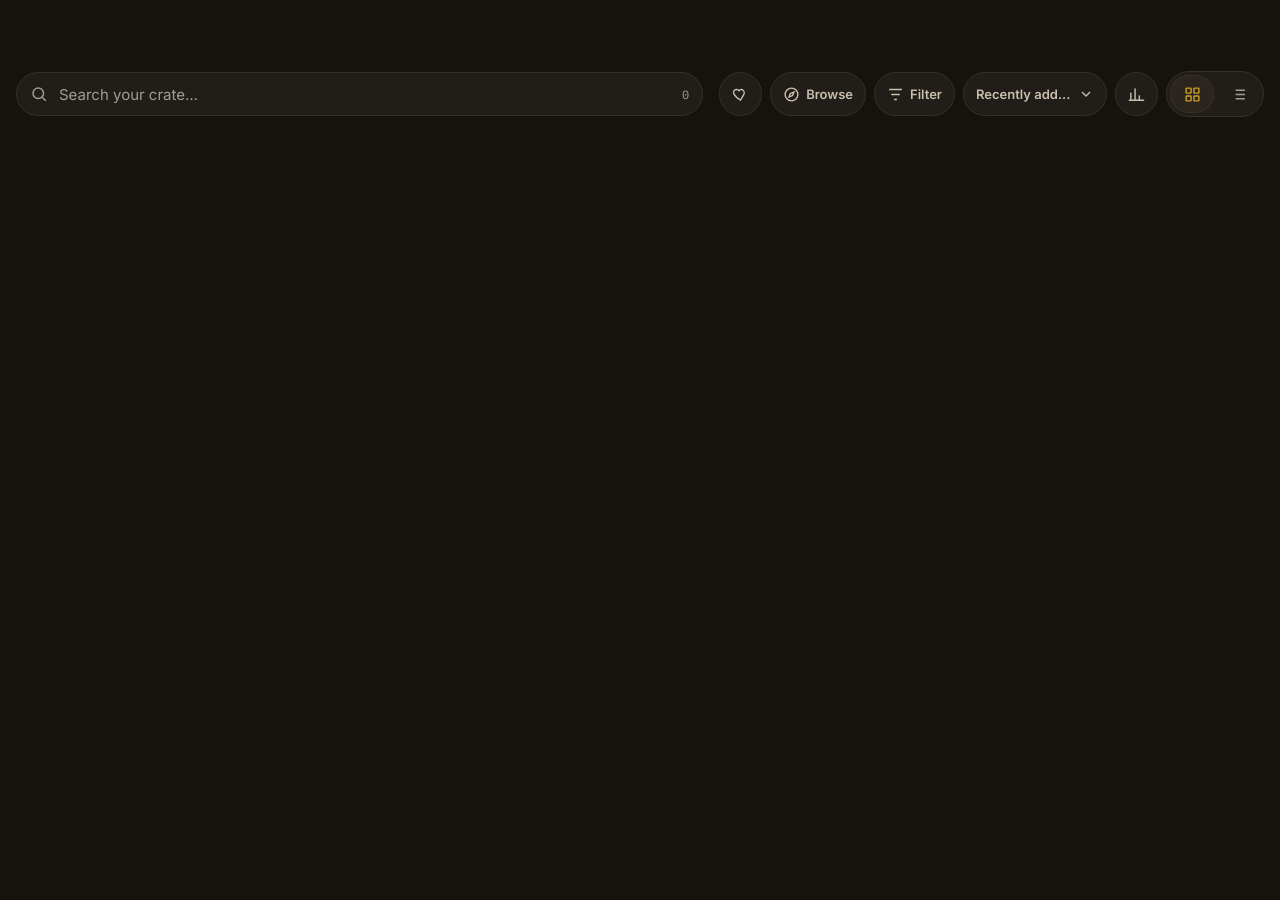
Scenario: Toolbar (single-row redesign) › opens the filter sheet from the Filter button
Click the button "Filter" at (914, 94), box [874, 72, 955, 116]
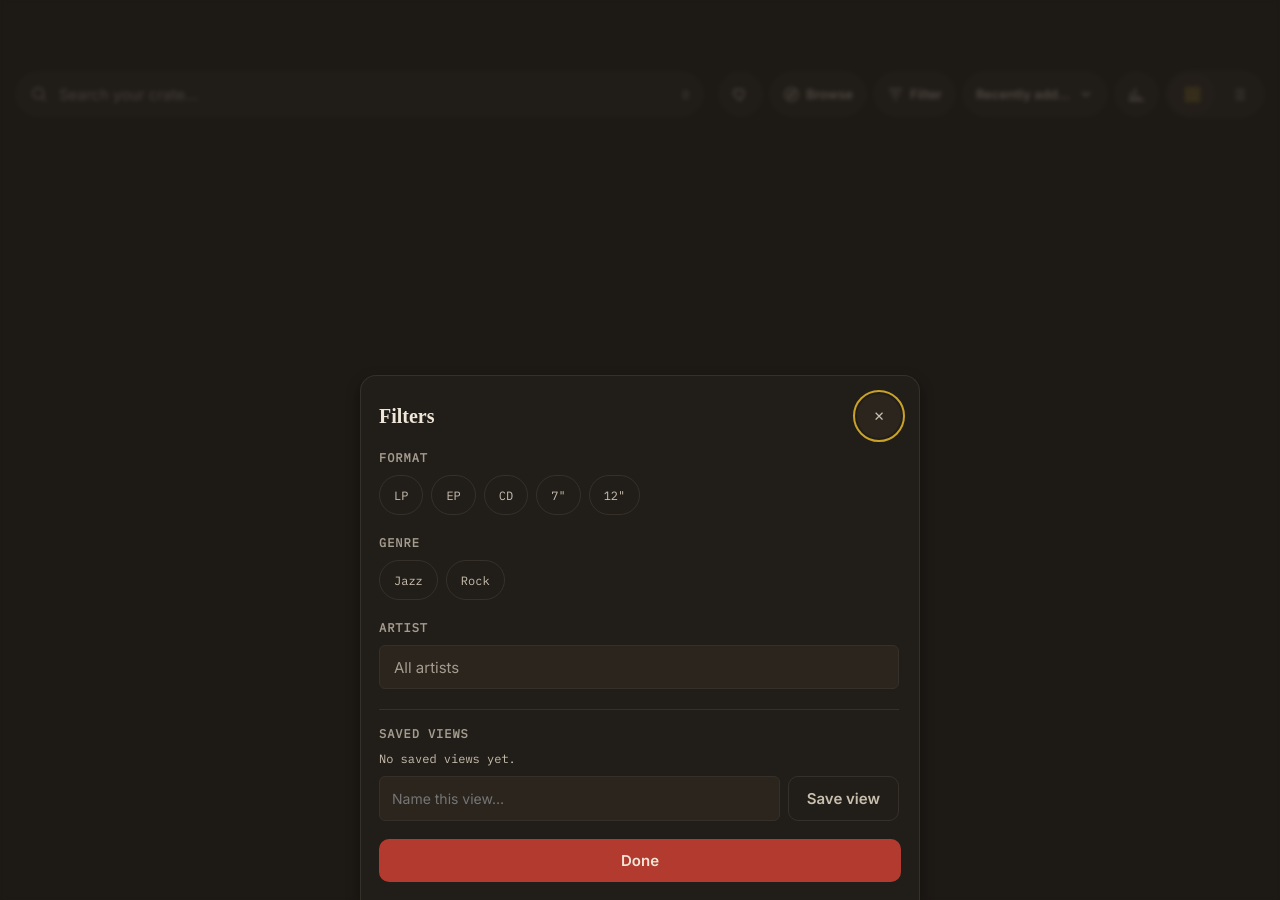
Check: the dialog "Filters" is shown
